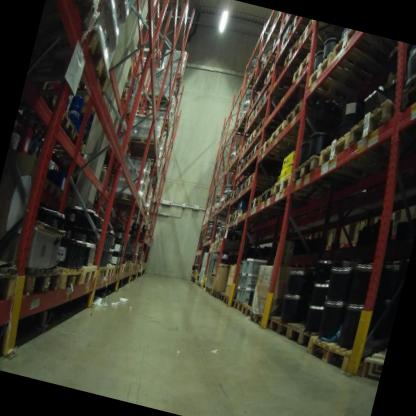pallet: (314, 122, 402, 195), (346, 90, 416, 175), (302, 49, 391, 115), (51, 23, 121, 101), (323, 26, 405, 89), (287, 148, 359, 206), (303, 329, 371, 376), (20, 71, 72, 125), (41, 0, 108, 40), (14, 258, 65, 309), (290, 49, 339, 98), (284, 95, 333, 137), (267, 167, 312, 211), (269, 116, 315, 153), (257, 135, 303, 170), (285, 316, 324, 355), (53, 104, 86, 150), (394, 52, 416, 119), (268, 311, 311, 345), (49, 260, 86, 299), (280, 37, 315, 77), (123, 131, 165, 164), (257, 184, 299, 217), (295, 20, 333, 55), (246, 192, 288, 222), (243, 170, 281, 201), (0, 261, 20, 319), (361, 339, 388, 379), (263, 64, 297, 95), (67, 259, 98, 291), (68, 125, 93, 164), (260, 85, 293, 114), (249, 303, 280, 333), (277, 32, 305, 63), (242, 114, 273, 141), (253, 116, 283, 142), (224, 212, 254, 237), (259, 52, 286, 79), (144, 92, 176, 114), (112, 185, 143, 207), (230, 207, 258, 229), (232, 114, 252, 142), (287, 15, 309, 40), (252, 100, 277, 121), (118, 198, 148, 214), (232, 293, 250, 318), (244, 129, 263, 152), (90, 264, 109, 286), (167, 69, 186, 90), (250, 136, 264, 162), (101, 261, 117, 281), (122, 108, 136, 129), (225, 159, 242, 176), (243, 299, 257, 319), (223, 291, 237, 310), (241, 150, 253, 172), (279, 14, 292, 33), (270, 35, 281, 56), (228, 187, 240, 206), (110, 263, 123, 280), (203, 283, 215, 301), (238, 142, 250, 159), (234, 161, 245, 179), (236, 179, 247, 197), (214, 238, 228, 252), (160, 118, 173, 132), (117, 82, 127, 99), (224, 191, 234, 207), (217, 292, 228, 306), (234, 142, 242, 159), (120, 96, 129, 110), (211, 290, 220, 302), (196, 280, 205, 290), (119, 263, 127, 272), (221, 197, 227, 209), (193, 276, 199, 286), (144, 207, 149, 217)
